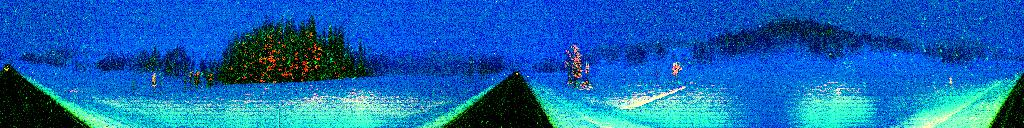pole: (276, 106, 281, 127)
